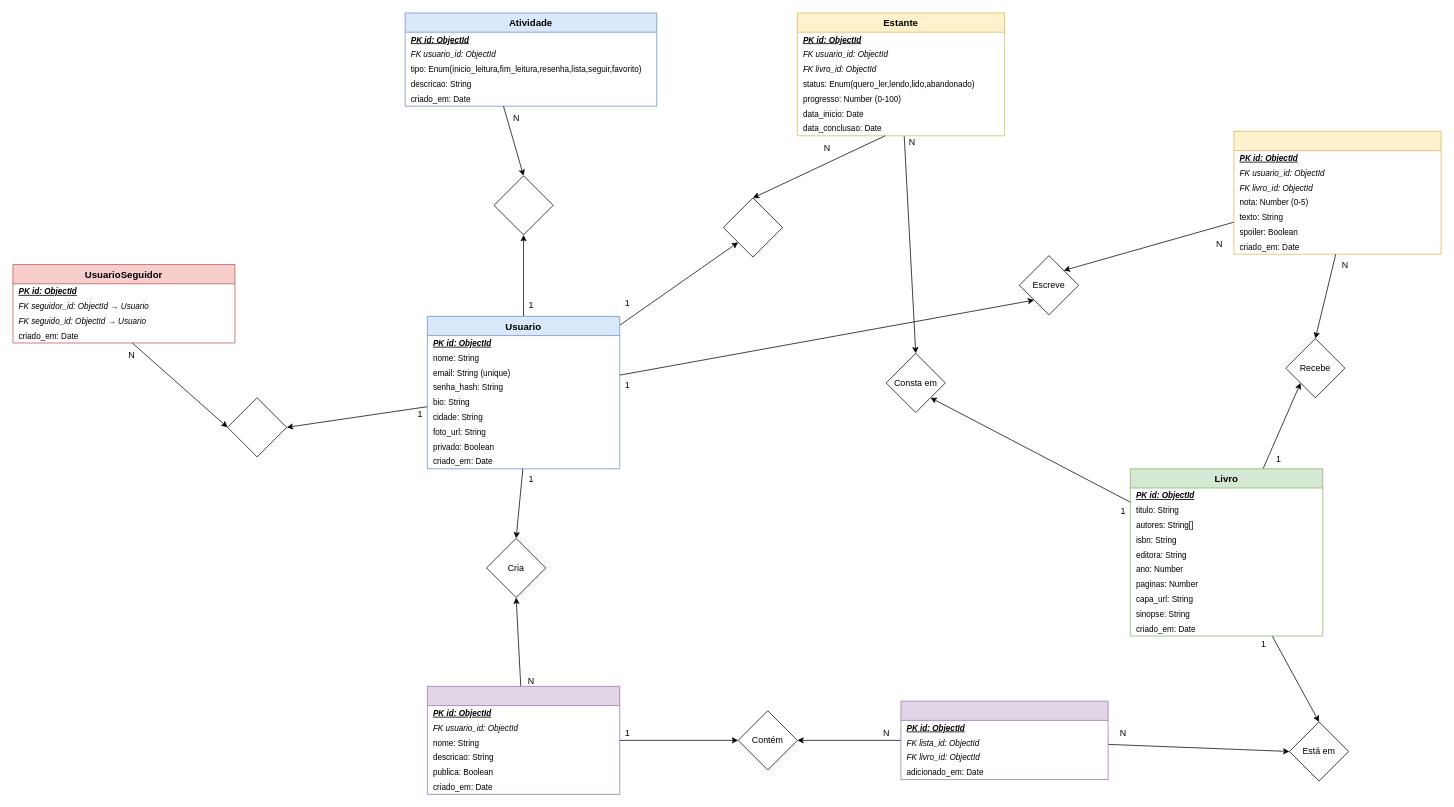
Image size: 1454x807. Some labels were removed from this diagram. The box of each missing label's shape, as (x1, y1, x2, y2) in pixels:
Gera: (493, 175, 553, 235)
Lista: (427, 686, 620, 794)
LivroLista: (900, 700, 1108, 780)
Organiza: (723, 197, 783, 257)
Resenha: (1233, 131, 1441, 254)
É seguido: (227, 397, 287, 457)
